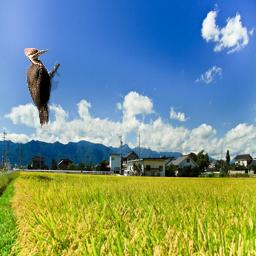Woodpecker: (24, 48, 60, 129)
